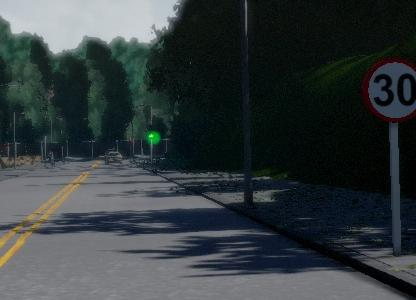Speed_30: (360, 53, 416, 128)
